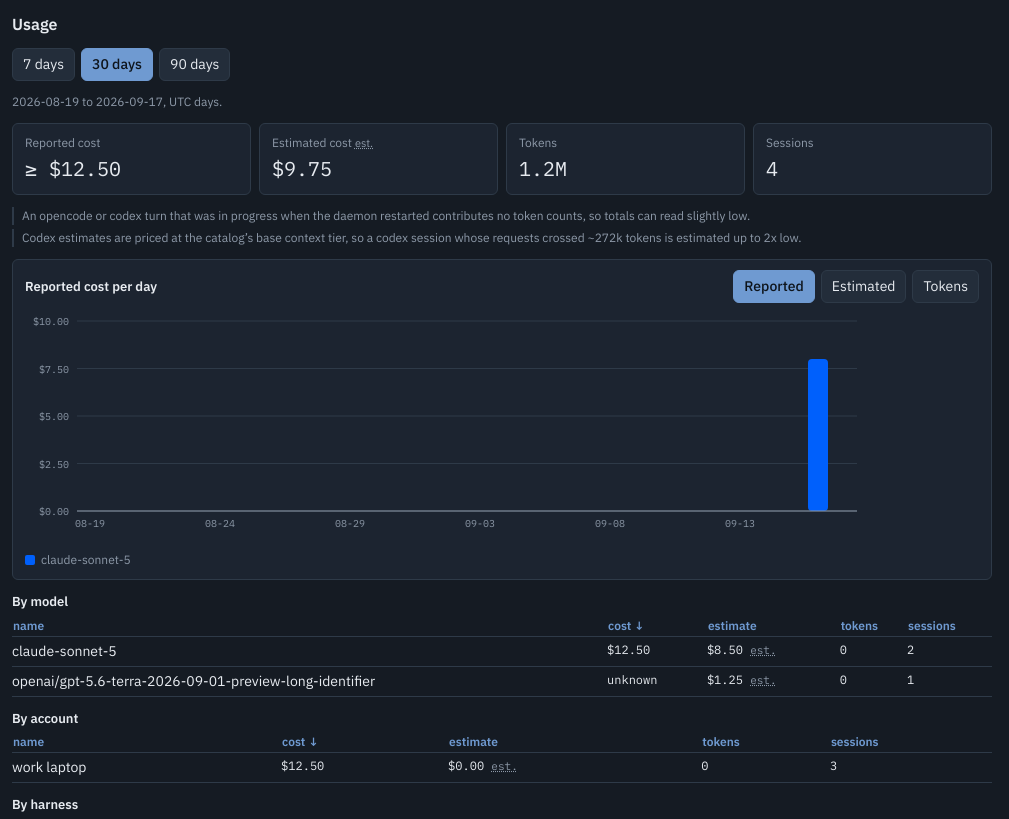
Test: Usage › draws one stacked bar per model per day and redraws it for the estimate and for tokens
Step 1. Click the button "Estimated" → (864, 286), box left=821, top=270, right=906, bottom=303
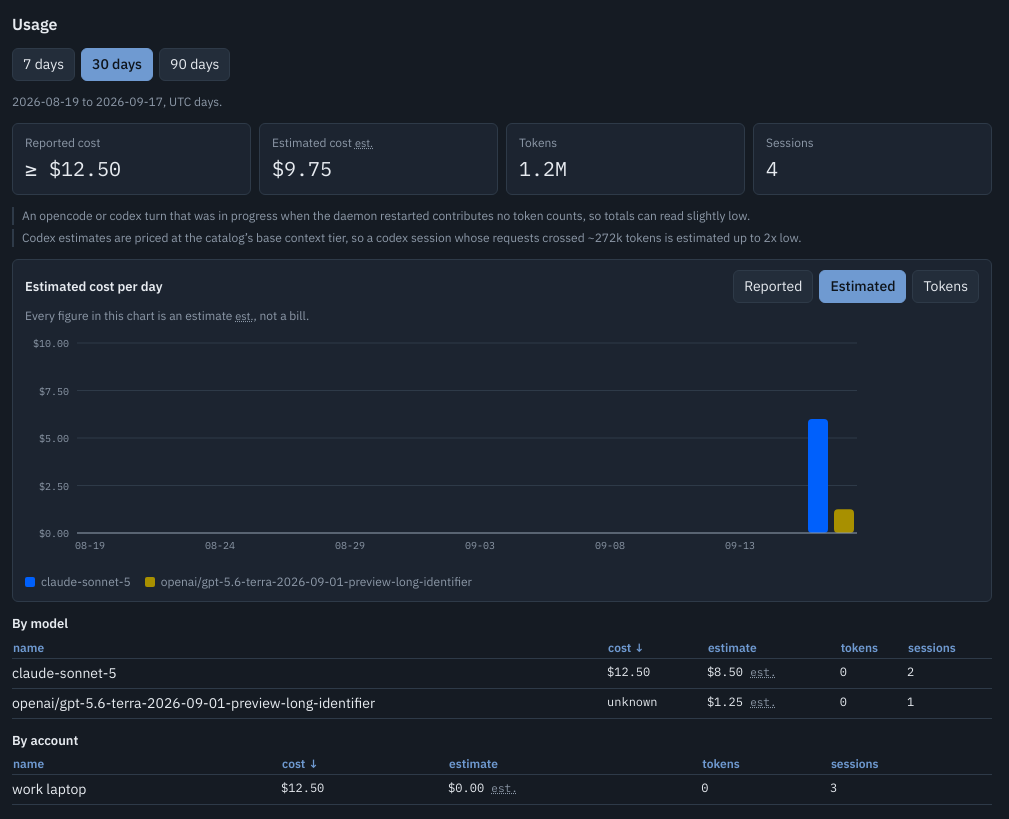
Now the picture named "Estimated cost per day" is shown, box left=25, top=333, right=869, bottom=559
Now the text "Every figure in this chart is an estimate est., not a bill." is shown, box left=25, top=308, right=309, bottom=323
Step 2. Click the button "Tokens" → (946, 286), box left=912, top=270, right=979, bottom=303
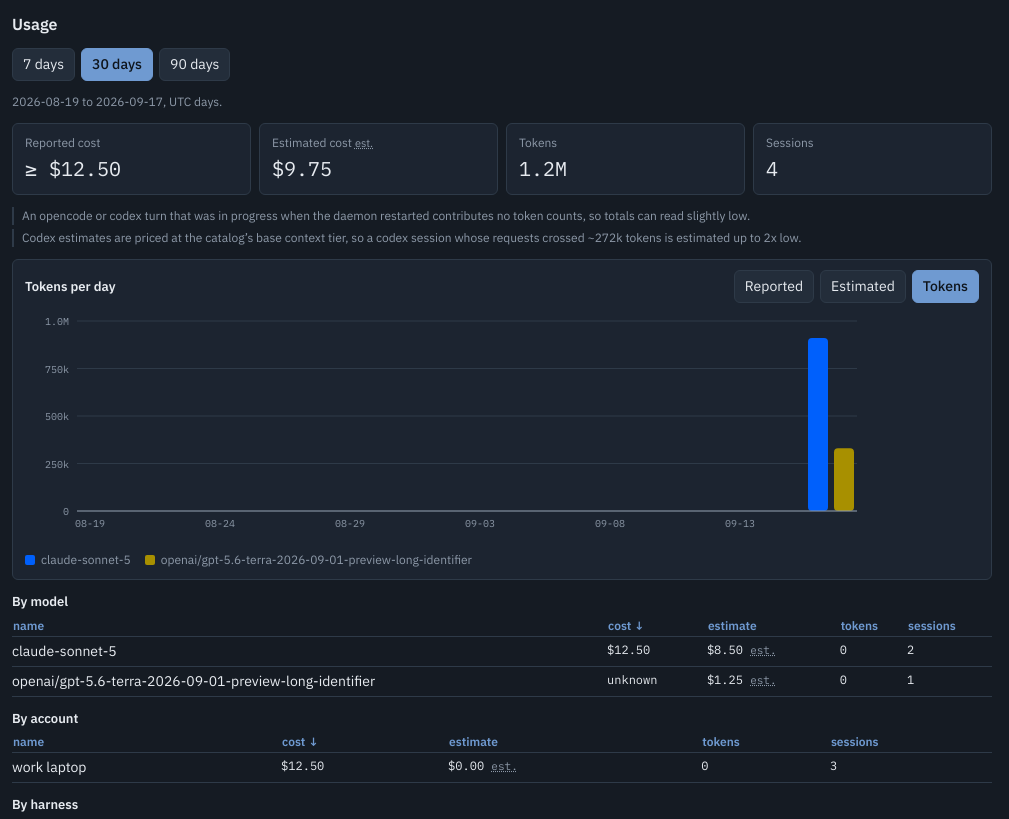
Now the picture named "Tokens per day" is shown, box left=25, top=311, right=869, bottom=537
